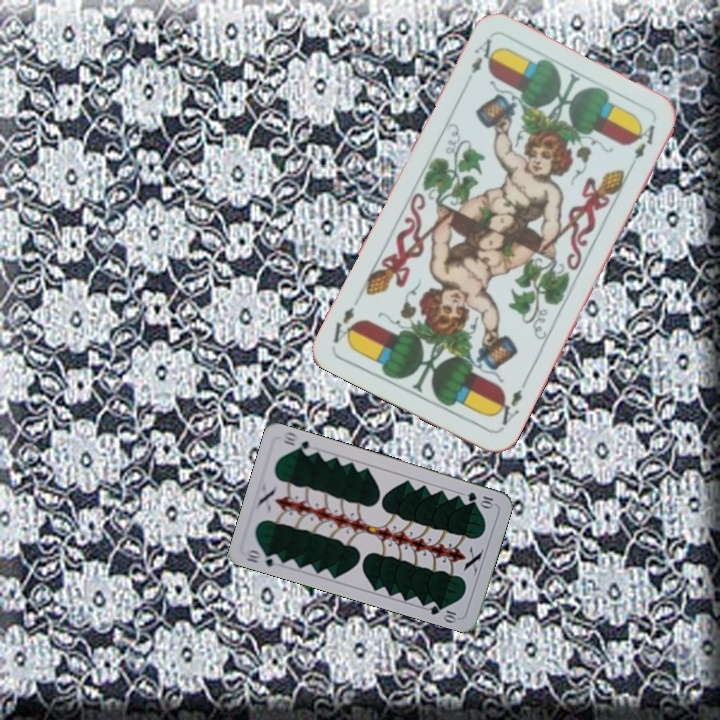EA: (490, 385, 525, 432), (466, 34, 500, 76)
G10: (242, 546, 283, 569), (463, 488, 497, 510)
